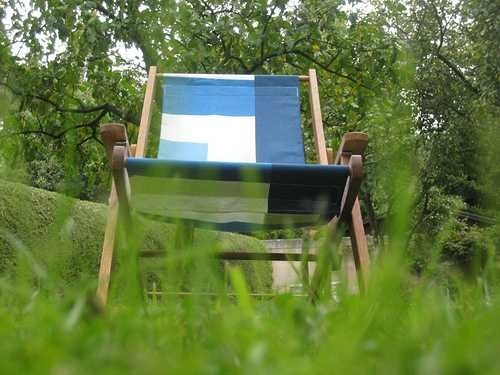obstacle: (97, 66, 368, 305)
